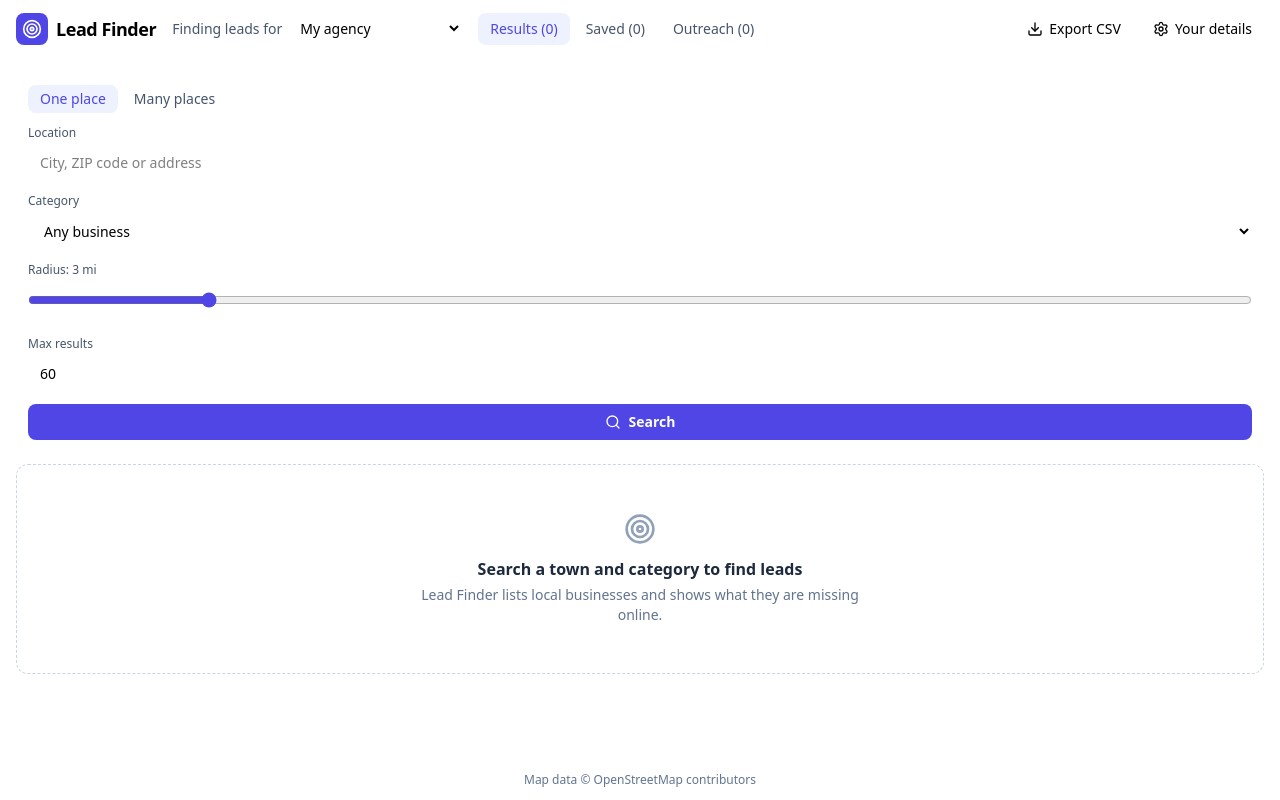
Test: first run and search flow › shows the fallback notice above the list
Type "Austin" into the field labelled "Location". click: (640, 163)
box: [28,145,1252,181]
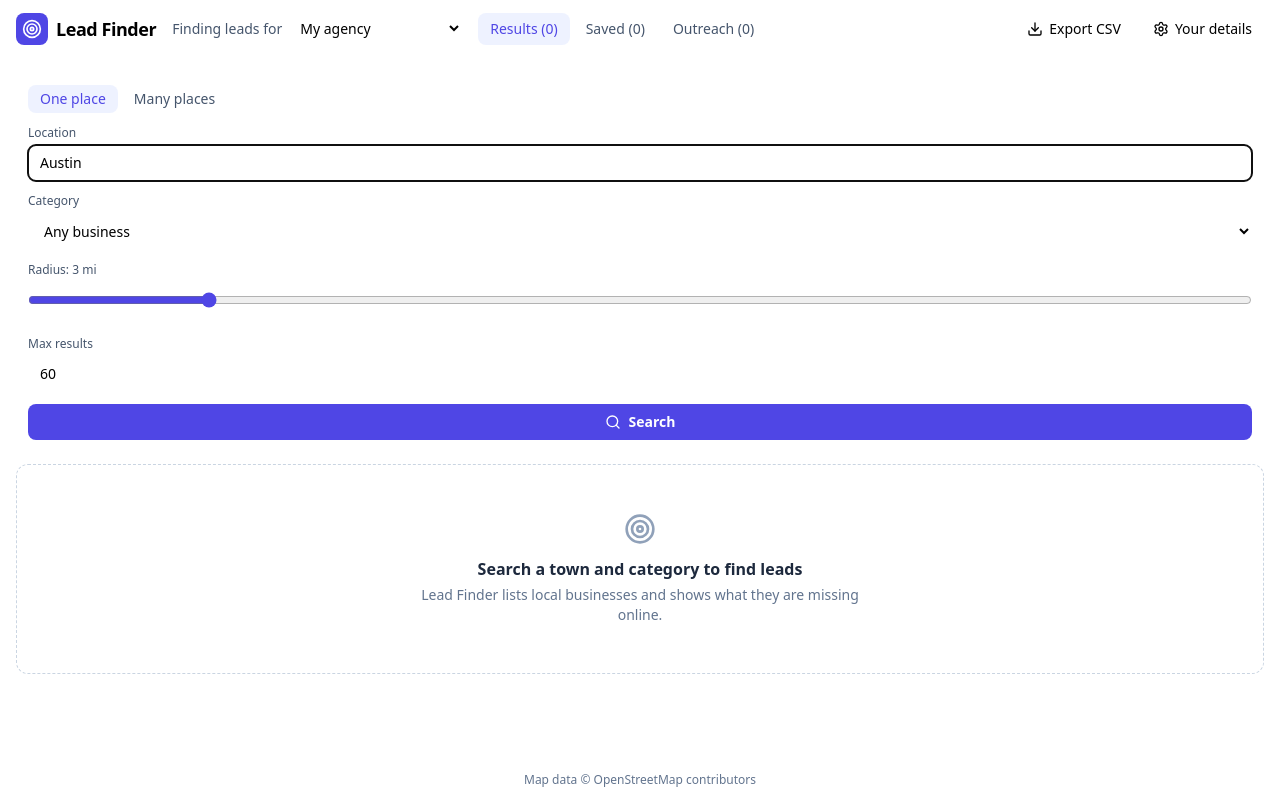
Click the button "Search". click: click(640, 422)
box: [28,404,1252,440]
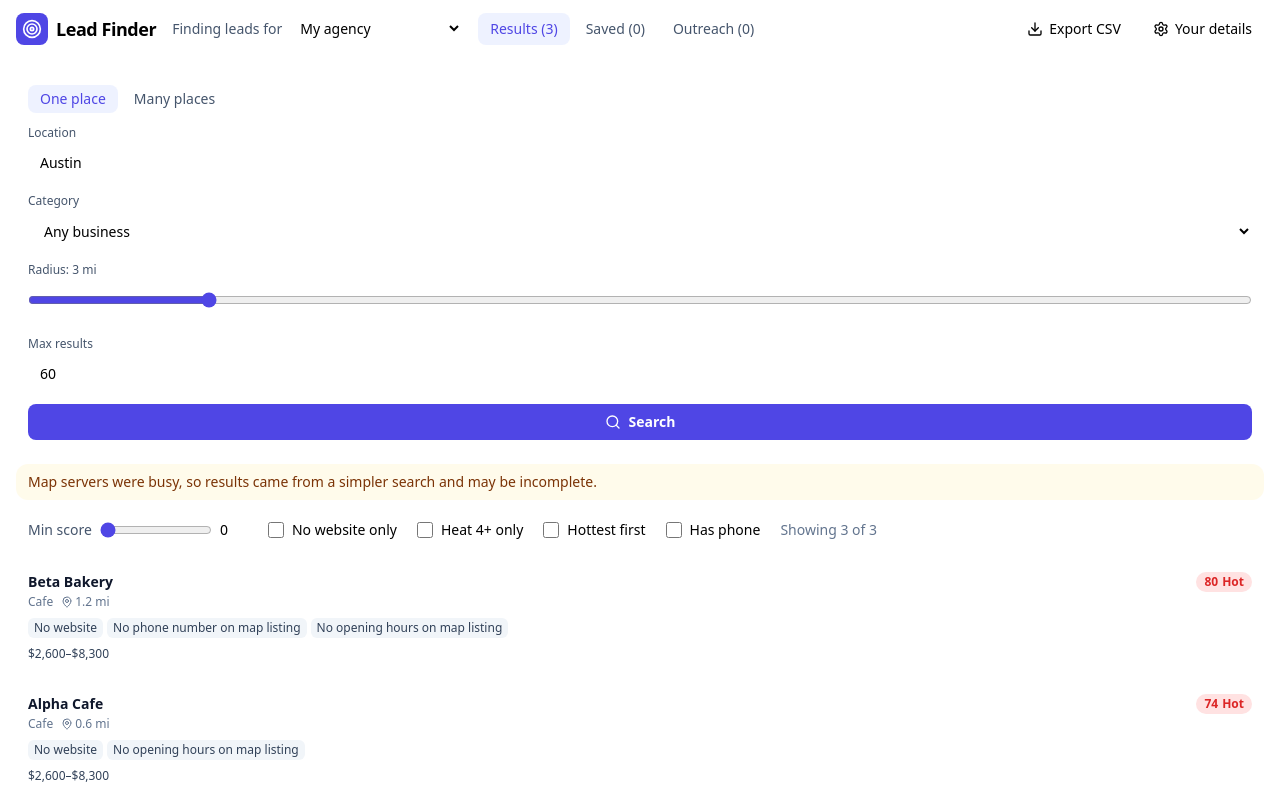
Now the text "Map servers were busy" is shown, box [28,472,597,491]
